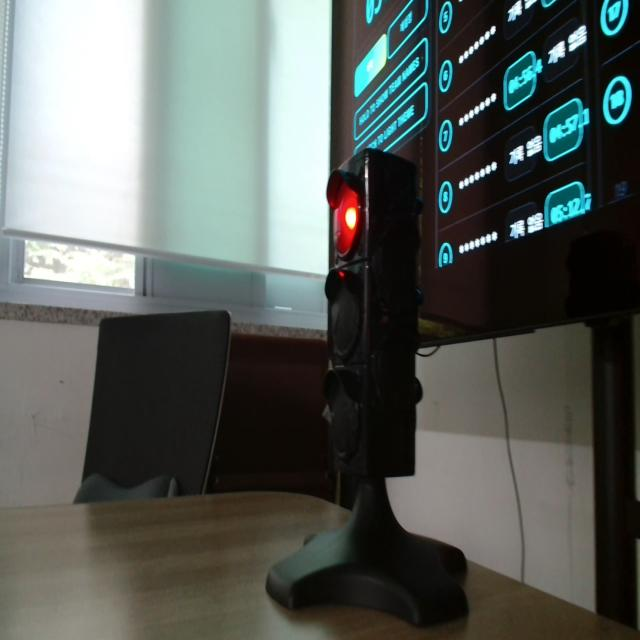red_light: (334, 182, 359, 257)
